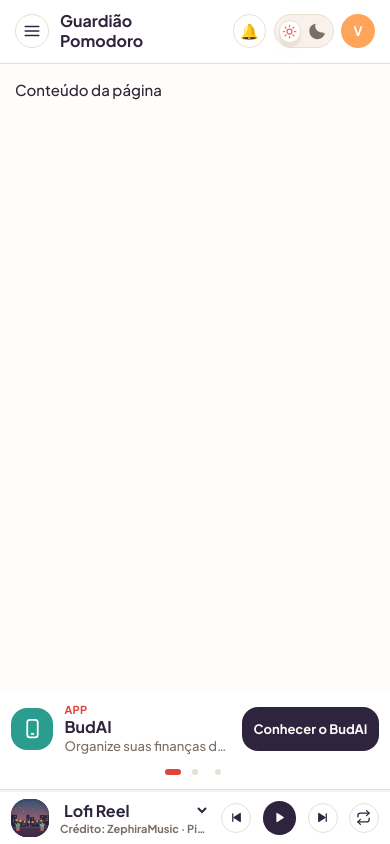
Scenario: AppShell › menu hambúrguer (mobile) › fecha ao clicar no botão "Fechar menu"
Click the button named "Abrir menu".
click(32, 31)  # box [15,14,49,48]
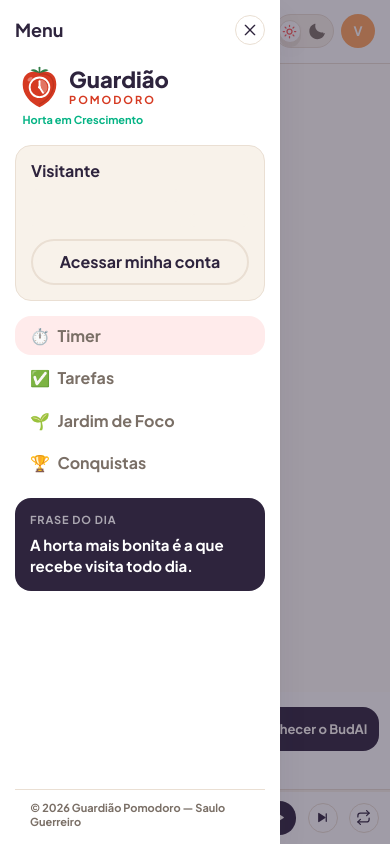
Click the button named "Fechar menu".
click(250, 30)  # box [235,15,265,45]
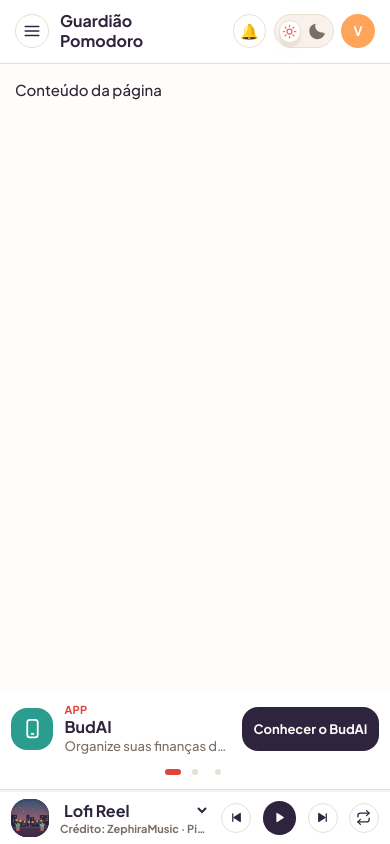
Check: the text "Menu" is gone
